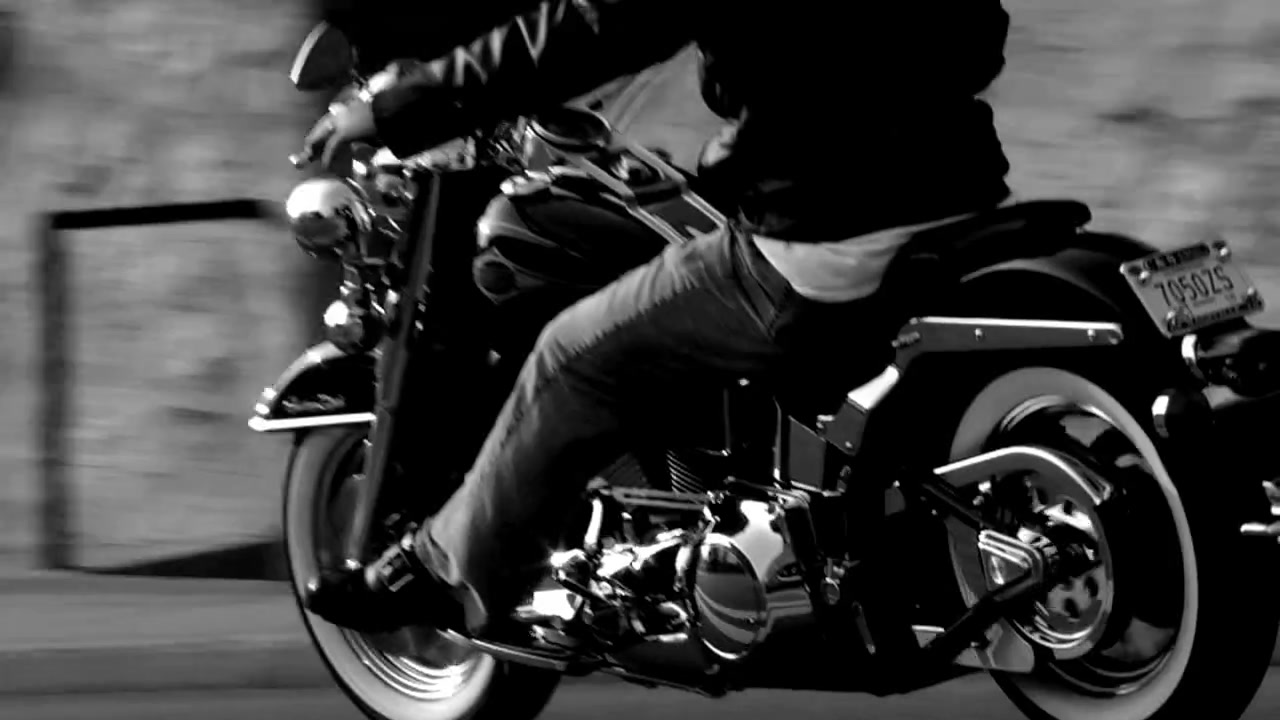motorbike: (248, 25, 1280, 720)
